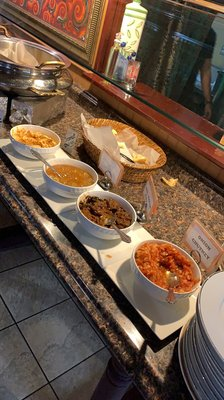sushi: (132, 239, 202, 305), (76, 190, 136, 241), (42, 160, 99, 200), (10, 124, 61, 162)
